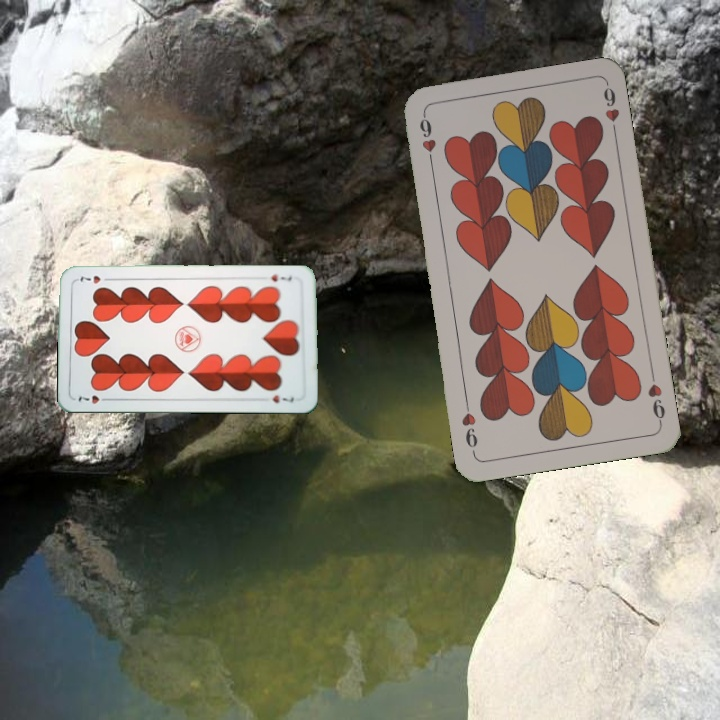H7: (74, 391, 113, 407), (267, 271, 295, 284)
H9: (644, 368, 668, 427), (415, 110, 439, 169)
